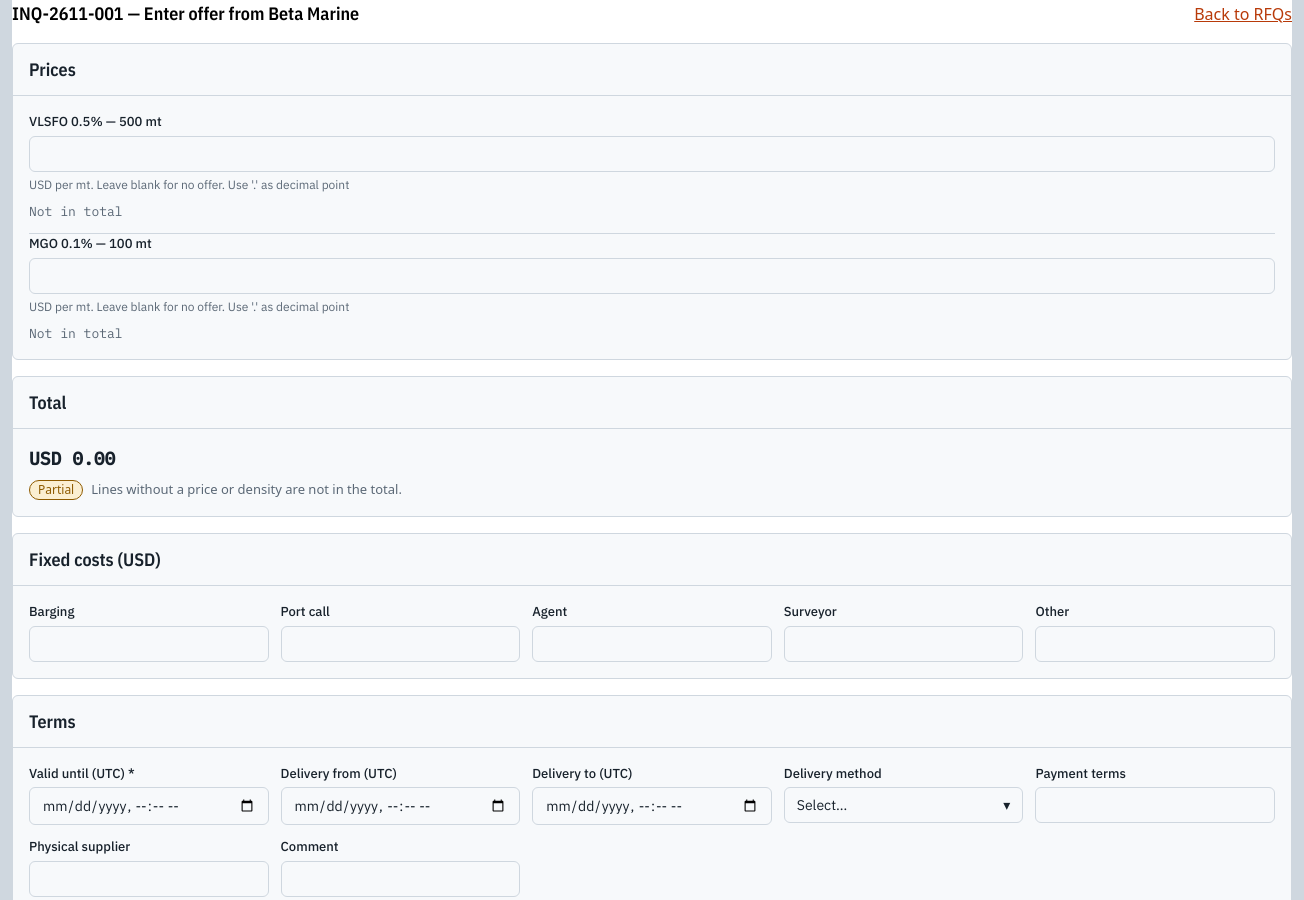
Test: OfferEntry › [B4-R12] a 403 on save shows a locked note
Type "2026-11-10T08:00" into the field labelled "Valid until (UTC) *" at (149, 806), box [29, 787, 269, 825]
(page scrolled)
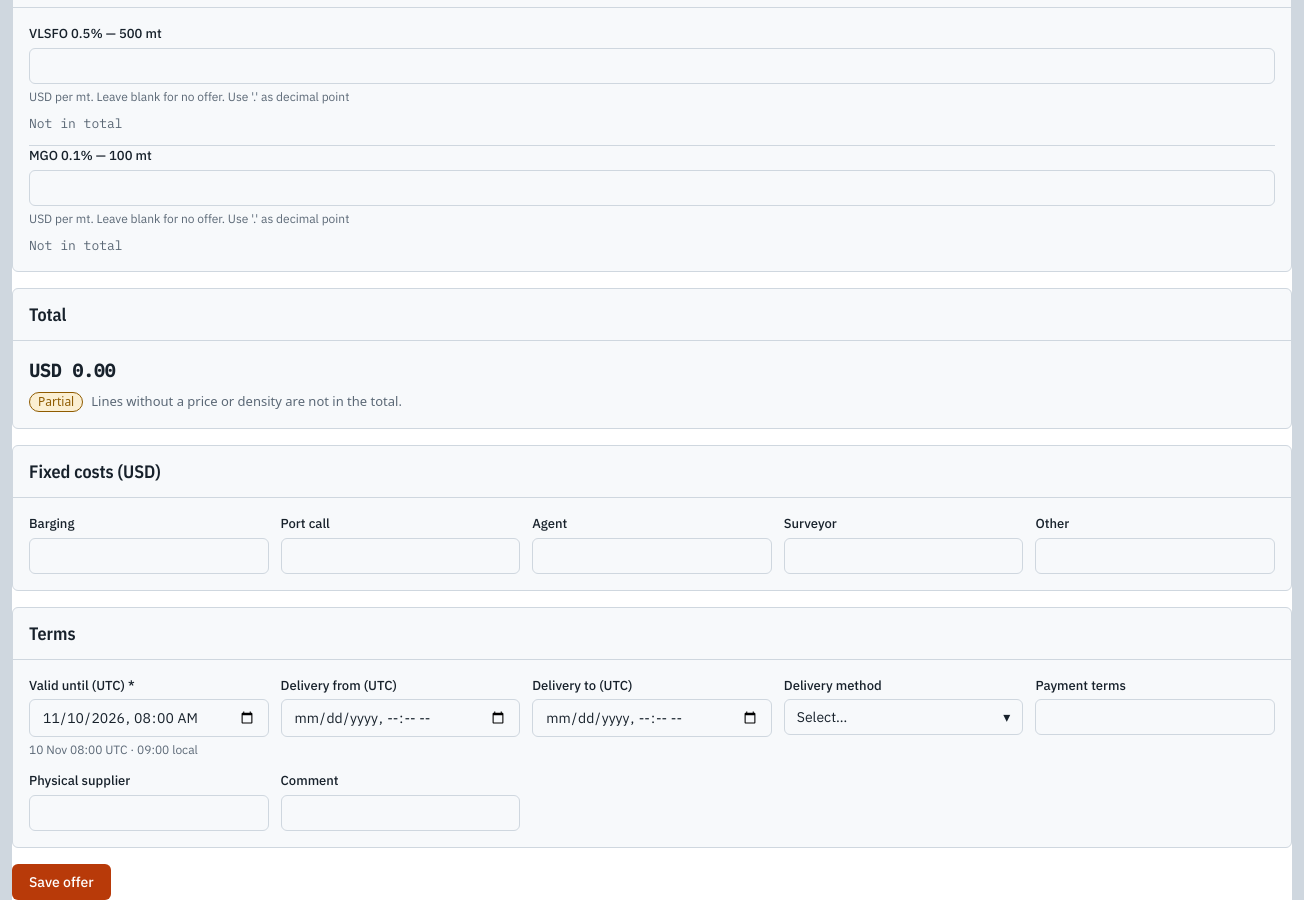
Click the button "Save offer" at (61, 882), box [12, 864, 110, 899]
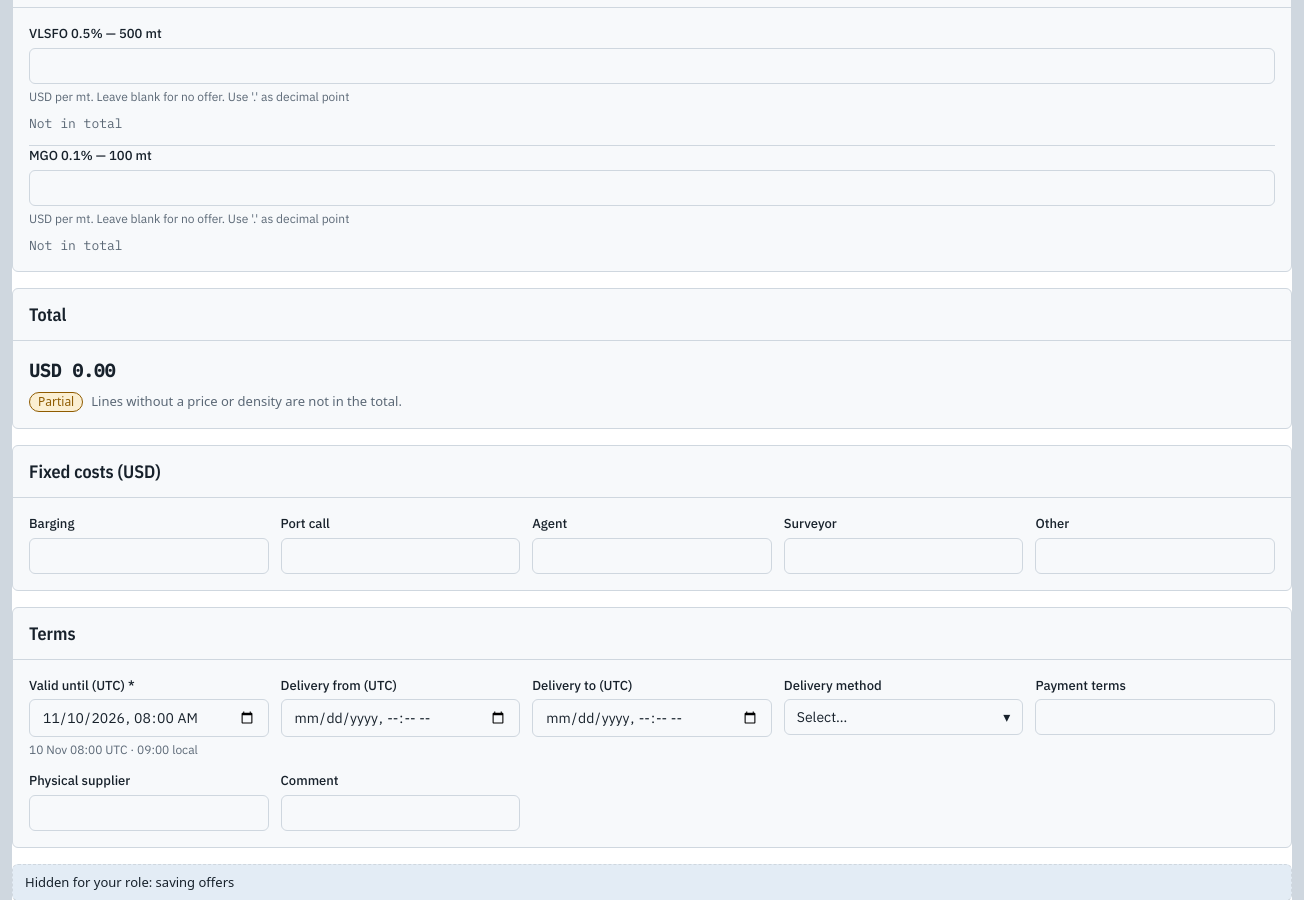
Now the text "Hidden for your role: saving offers" is shown, box [12, 864, 1292, 899]
